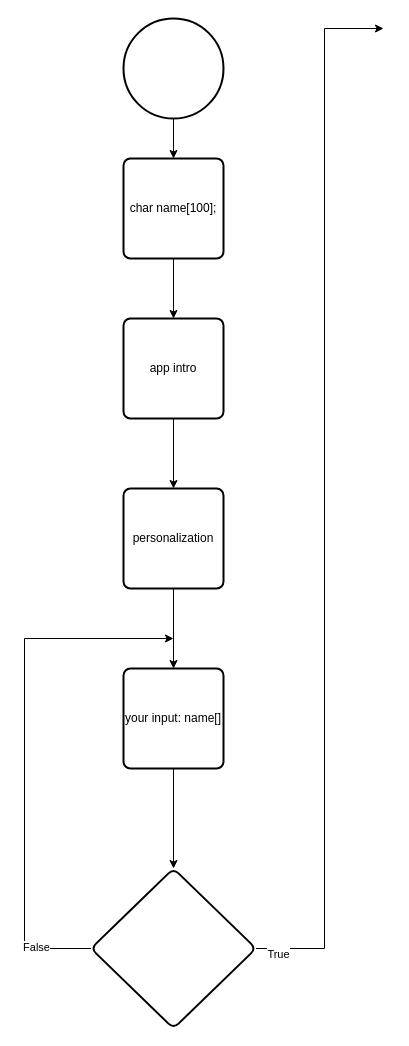
Some shapes in this 409 by 1046 pixel diagram are drawn without their labels. The shapes that lost their labels are listed below. From the top down, each one's box as (x1, y1, x2, y2) in pixels, then its label:
(122, 17, 224, 119): START
(90, 867, 256, 1029): are you satisfied with your input?
